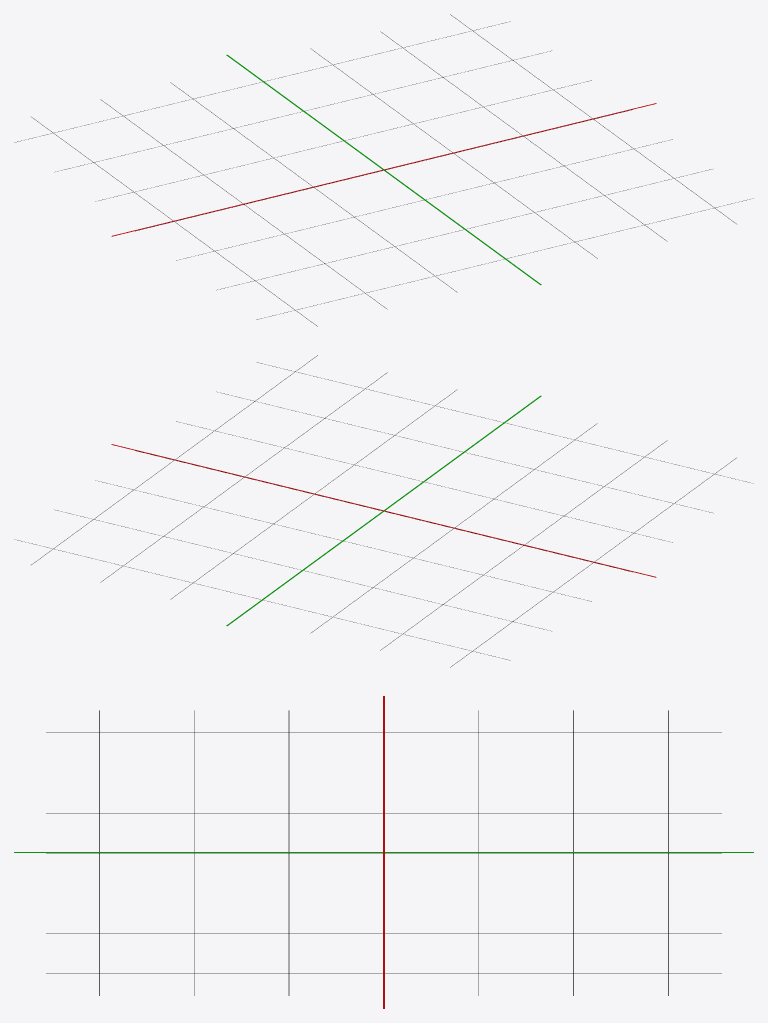
Rendered from Area.gltf.
3 renders of one model, top to bottom at view 1: azimuth 30°, elevation 25°; view 2: azimuth 150°, elevation 25°; view 3: azimuth 270°, elevation 25°, orthographic. The views are drawn at different scales.
Parts seen in each view (by area): view 1: Area; view 2: Area; view 3: Area.
Boxes of the visible parts, x1,y1,x2,y2 form: Area: (14,14,753,326); Area: (14,355,753,667); Area: (14,696,753,1008).
Bounding box in the file's own units: 10.4 × 0.011 × 10.4.
